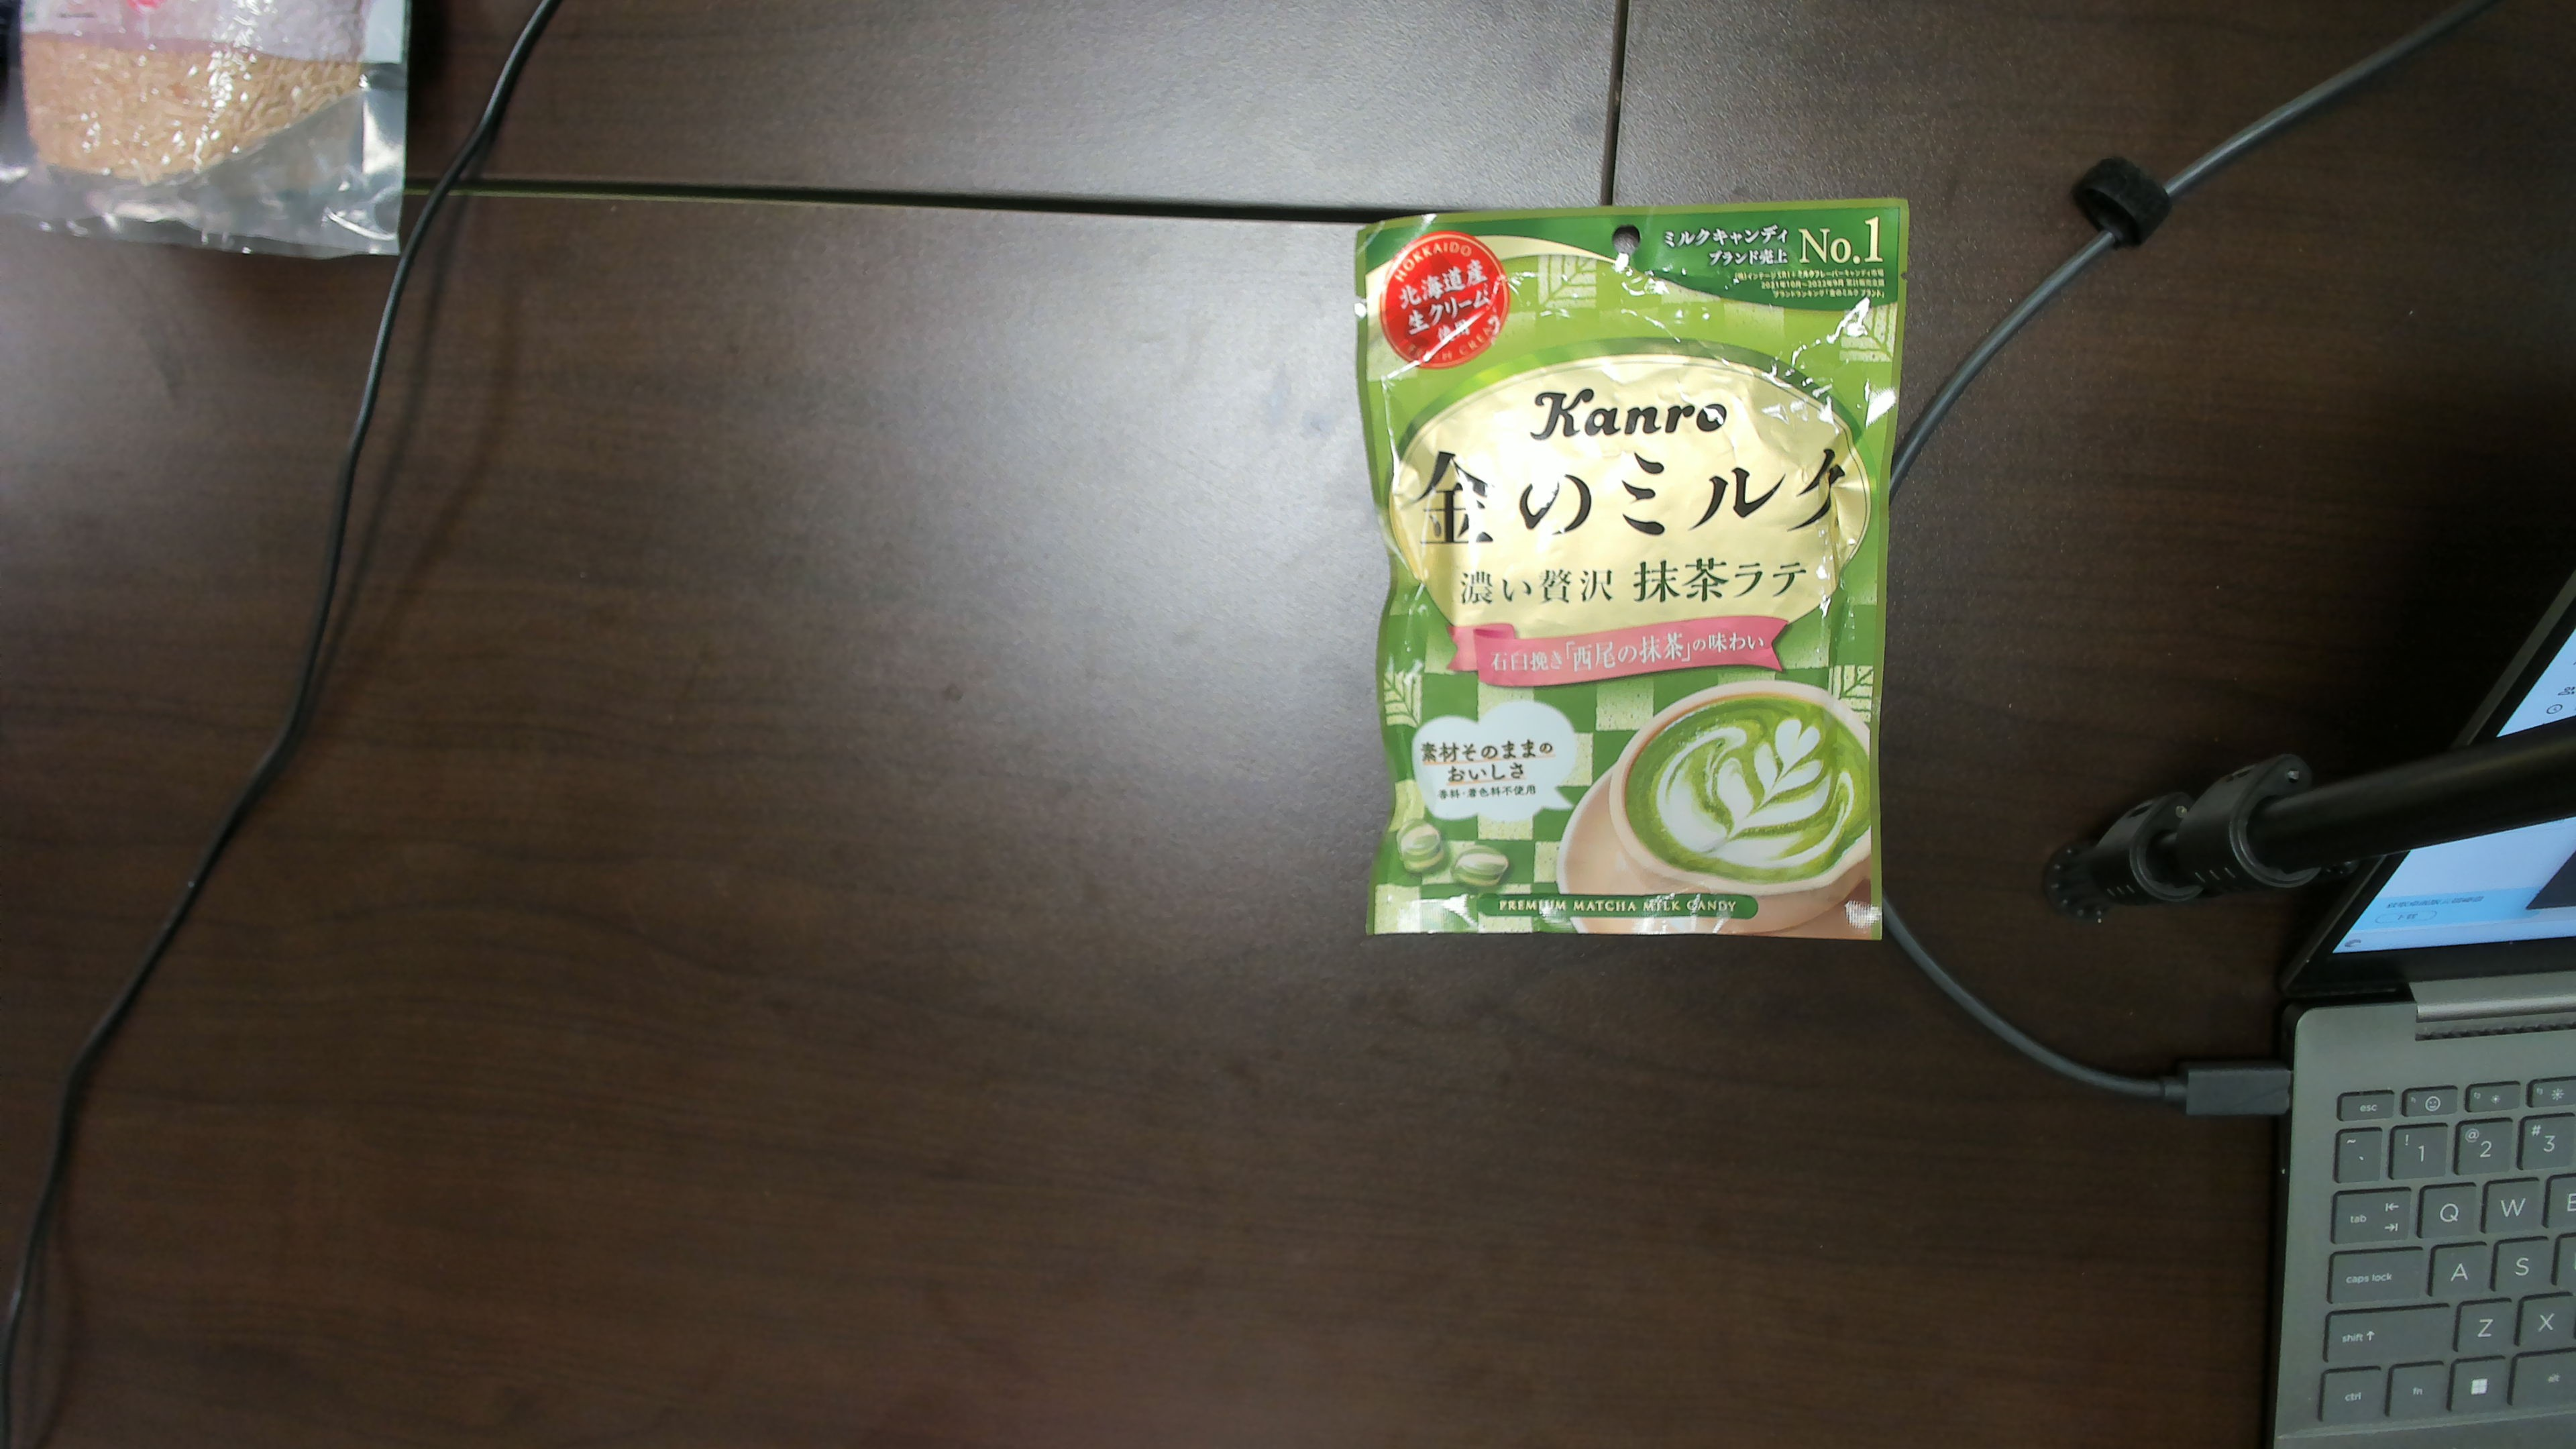SweetsChocolatesOthers_100-199g_NonHalal_NonHealthy: (1380, 216, 1891, 938)
